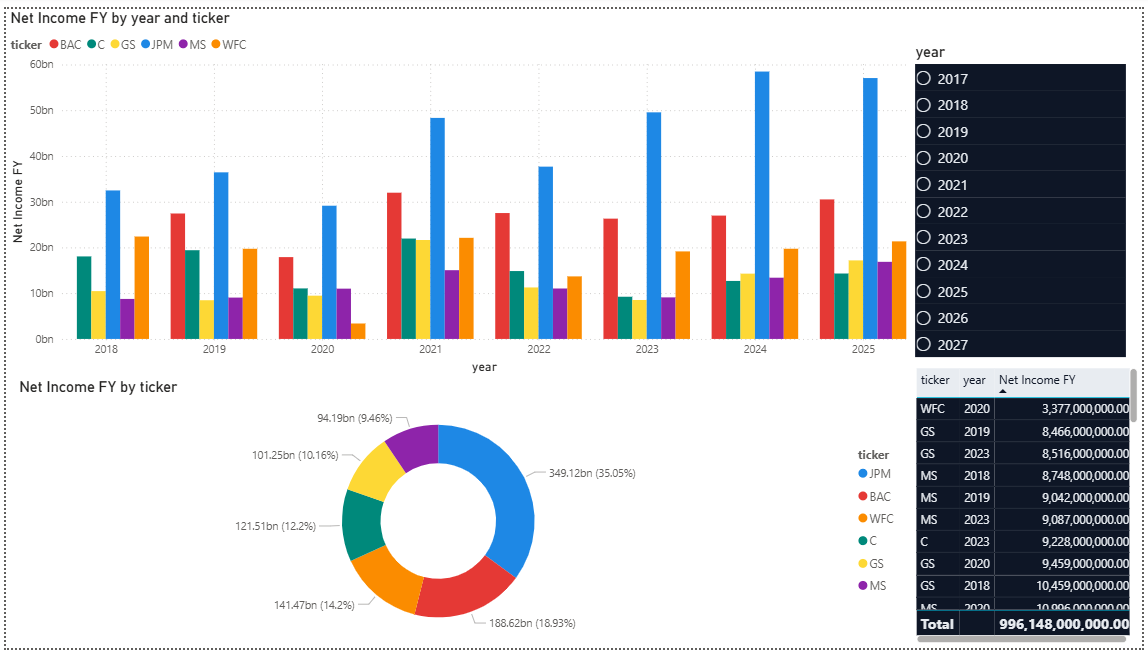

The dashboard page shown, as its layout file describes it:
{"tool":"powerbi","page":{"name":"Page 2","canvas":[1280,720],"ordinal":1},"visuals":[{"type":"lineClusteredColumnComboChart","fields":{"Category":["dim_date.year"],"Y":["fact_financials.Net Income FY"],"Series":["dim_company.ticker"]},"box":[0,0,1019.7,415.5],"z":0},{"type":"donutChart","fields":{"Category":["dim_company.ticker"],"Y":["fact_financials.Net Income FY"]},"box":[9.9,415.5,1009.9,304.2],"z":1000},{"type":"listSlicer","fields":{"Values":["dim_date.year"]},"box":[1019.7,38,260.6,415.5],"z":2000},{"type":"tableEx","fields":{"Values":["dim_company.ticker","dim_date.year","fact_financials.Net Income FY"]},"box":[1019.7,453.5,260.6,266.2],"z":2001}]}

Visuals, with their boxes in screenshot pixels (x1, y1, x2, y2), scaled from the page's 1280x720 canvas onto the 1148x650 screenshot:
lineClusteredColumnComboChart - dim_date.year x fact_financials.Net Income FY: bbox=(0, 0, 915, 375)
donutChart - dim_company.ticker x fact_financials.Net Income FY: bbox=(9, 375, 915, 649)
listSlicer - dim_date.year: bbox=(915, 34, 1147, 409)
tableEx - dim_company.ticker x dim_date.year: bbox=(915, 409, 1147, 649)
